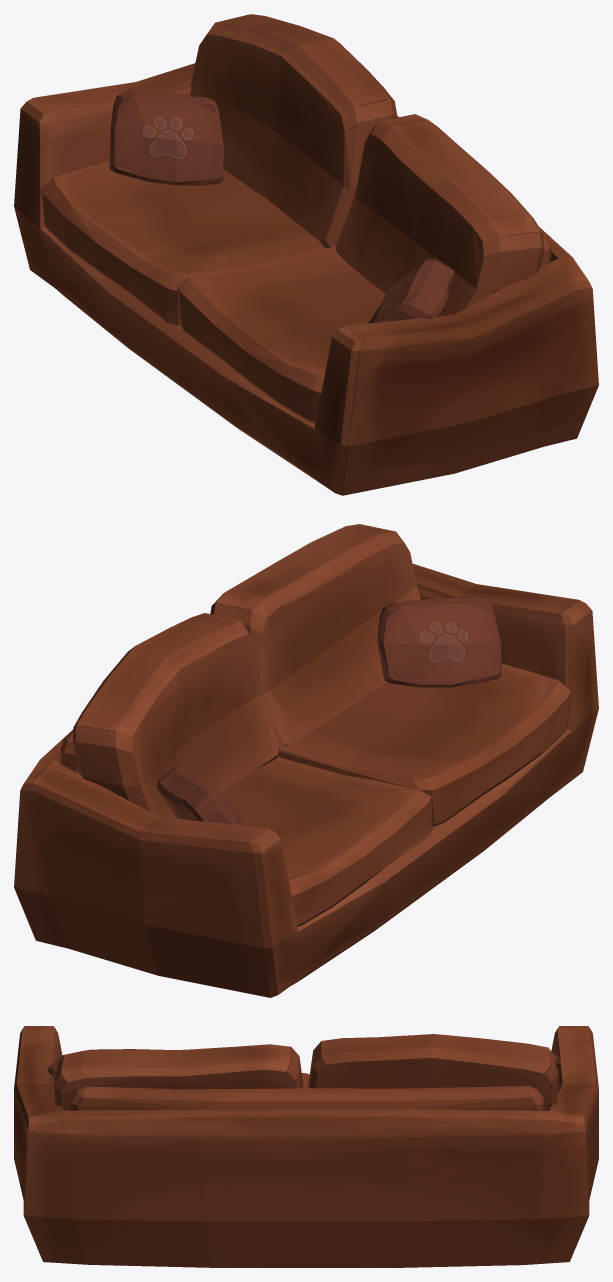
File: SOFA asset.FBX
The picture shows the model from 3 angles, top to bottom: view 1: azimuth 30°, elevation 25°; view 2: azimuth 150°, elevation 25°; view 3: azimuth 270°, elevation 25°; orthographic projection. The views are drawn at different scales.
Parts seen in each view (by area): view 1: Sofa, sofa pillow left, sofa pillow righ; view 2: Sofa, sofa pillow righ, sofa pillow left; view 3: Sofa.
Boxes of the visible parts, <box> form: Sofa: <box>14,14,598,495</box>; sofa pillow left: <box>109,90,223,185</box>; sofa pillow righ: <box>368,259,454,323</box>; Sofa: <box>14,524,598,997</box>; sofa pillow righ: <box>377,595,501,687</box>; sofa pillow left: <box>157,766,244,825</box>; Sofa: <box>14,1026,598,1267</box>.
Bounding box in the file's own units: 111 × 94.62 × 234.
3 materials, 3 textured.
